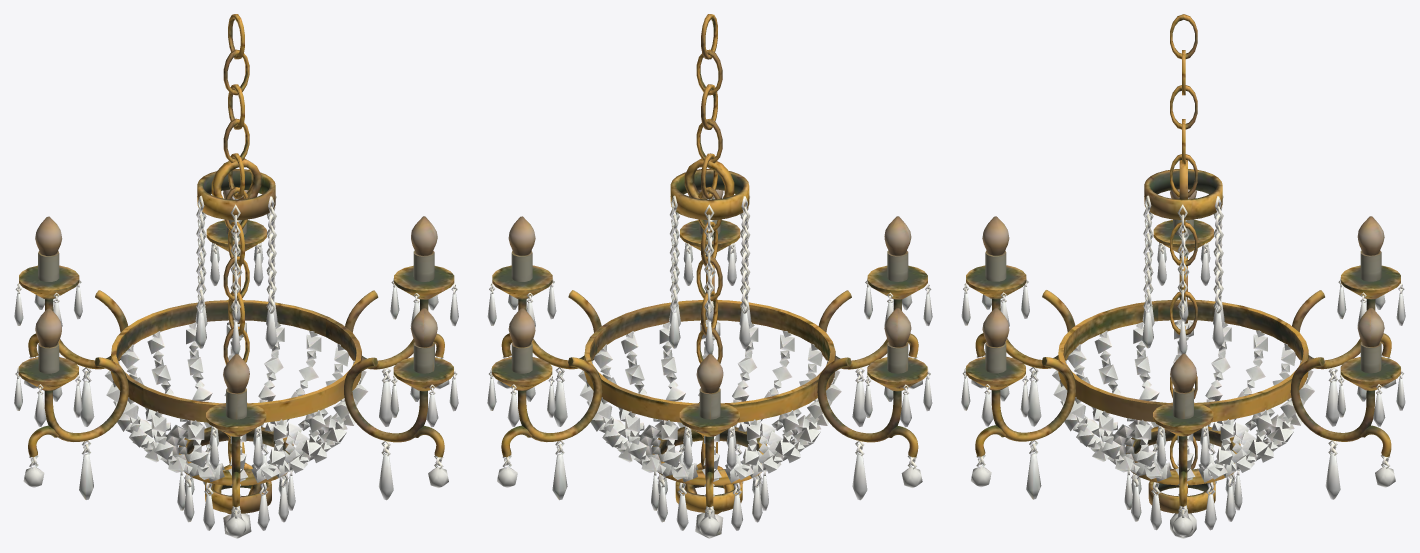
Rendered from SM_Chandelier03_861ee7.glb.
The picture shows the model from 3 angles, left to right: view 1: azimuth 30°, elevation 25°; view 2: azimuth 150°, elevation 25°; view 3: azimuth 270°, elevation 25°; orthographic projection.
Size of the model in its own units: 1.36 by 1.6 by 1.23.
Materials: 2 (2 with a texture image).
